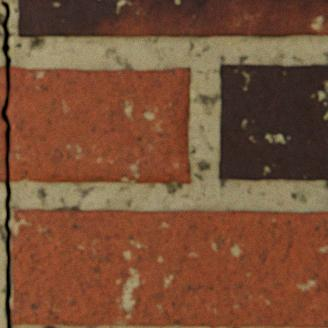brick: (11, 209, 327, 327), (218, 64, 327, 180), (17, 0, 327, 38)
broken_brick: (6, 67, 189, 183), (0, 67, 6, 182)
crack: (0, 0, 12, 327)
